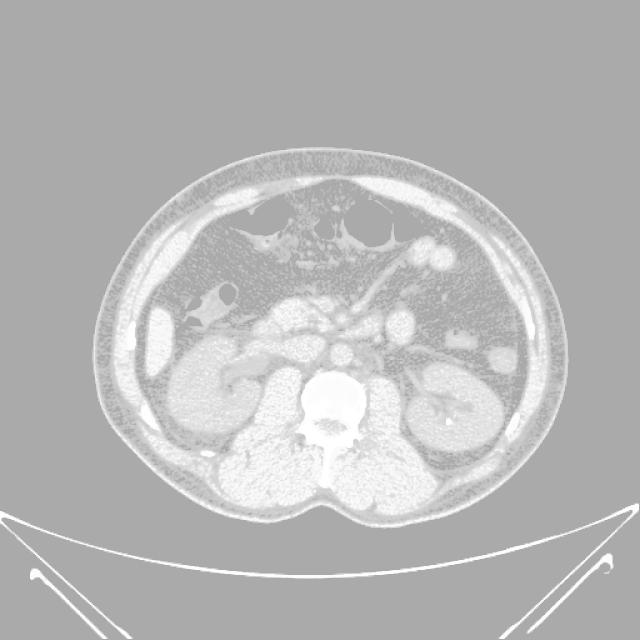STONE: (207, 174, 483, 364)
